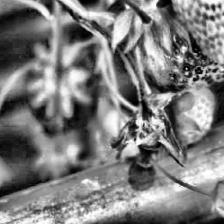Gray Mold: (120, 82, 184, 168)
